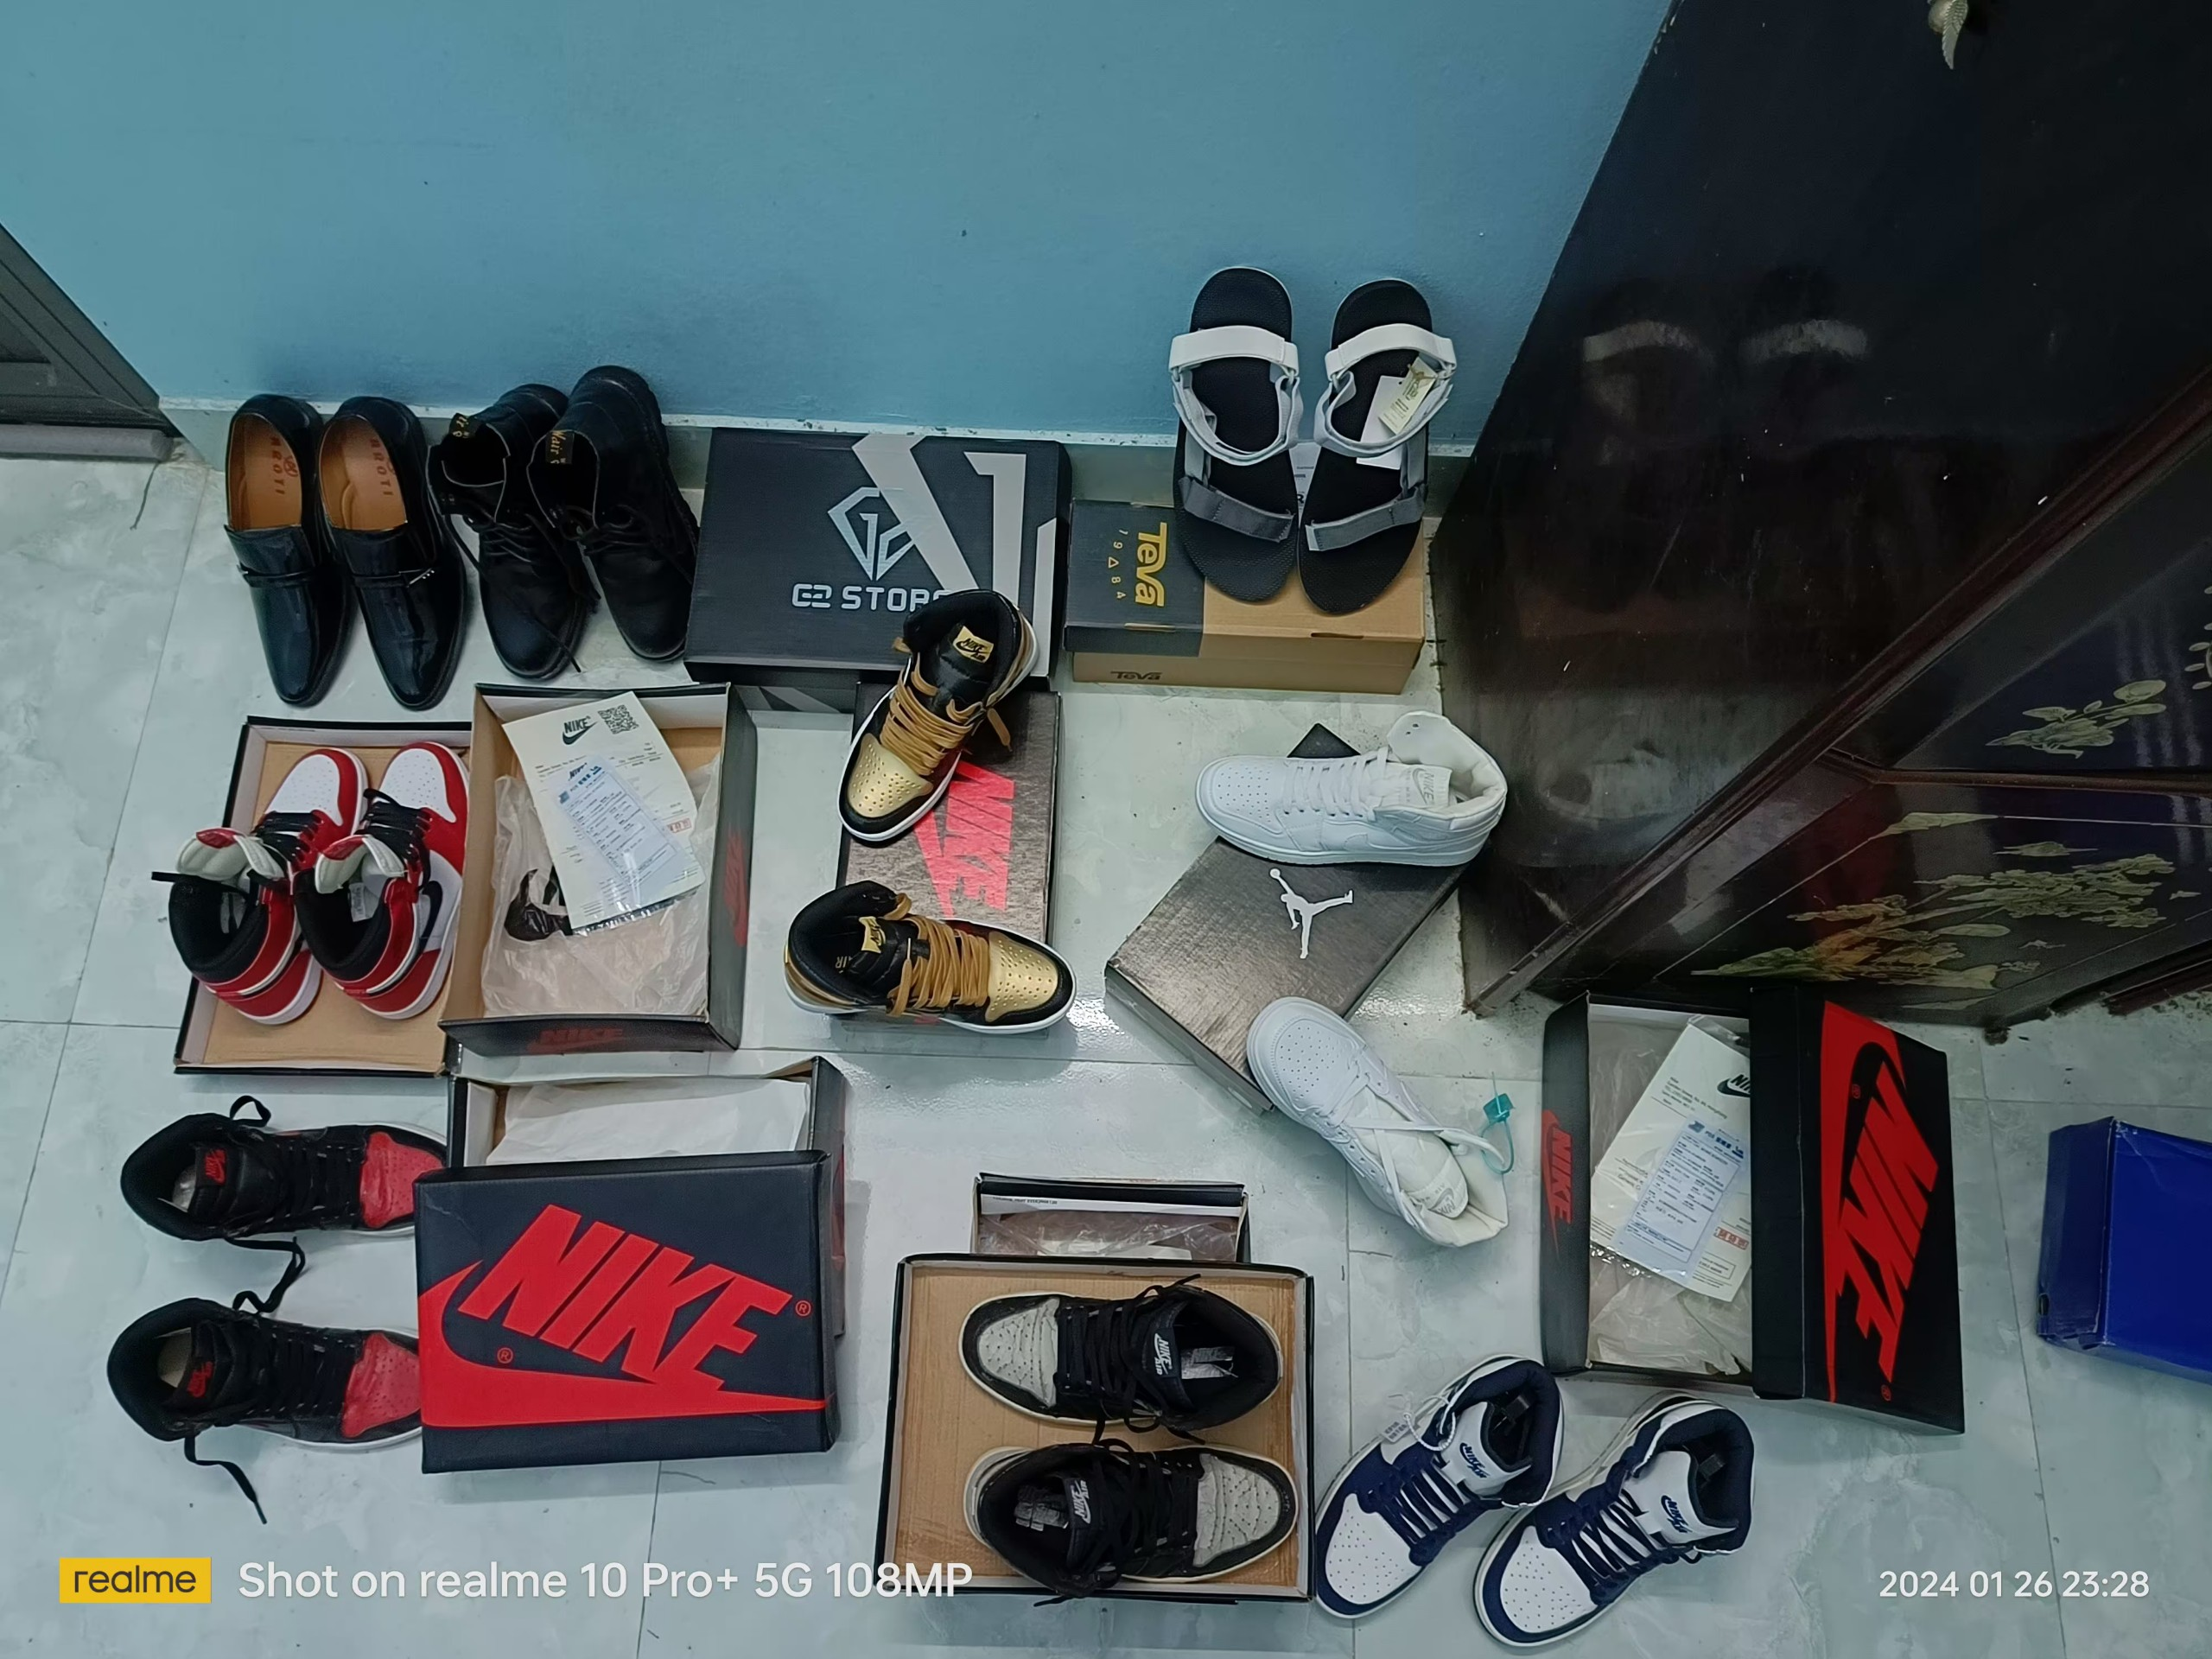boots: (420, 385, 604, 683), (524, 366, 704, 666)
loafers: (317, 396, 469, 713), (221, 392, 355, 713)
sandals: (1294, 279, 1460, 619), (1170, 267, 1305, 605)
sneakers: (1240, 988, 1508, 1260), (1475, 1398, 1757, 1643), (1313, 1349, 1564, 1619), (165, 748, 369, 1035), (956, 1274, 1287, 1429), (298, 746, 481, 1025), (1198, 711, 1507, 871), (103, 1298, 425, 1452), (956, 1446, 1296, 1589), (840, 592, 1031, 845), (113, 1105, 453, 1244), (779, 890, 1082, 1039)
